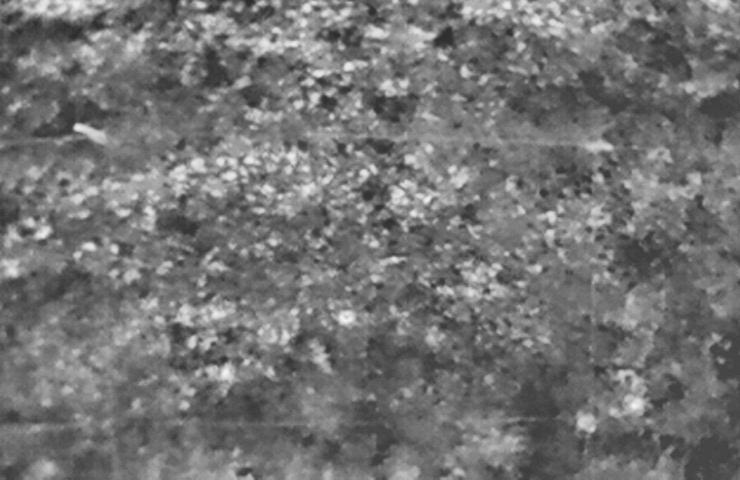landmines: (336, 308, 359, 330)
